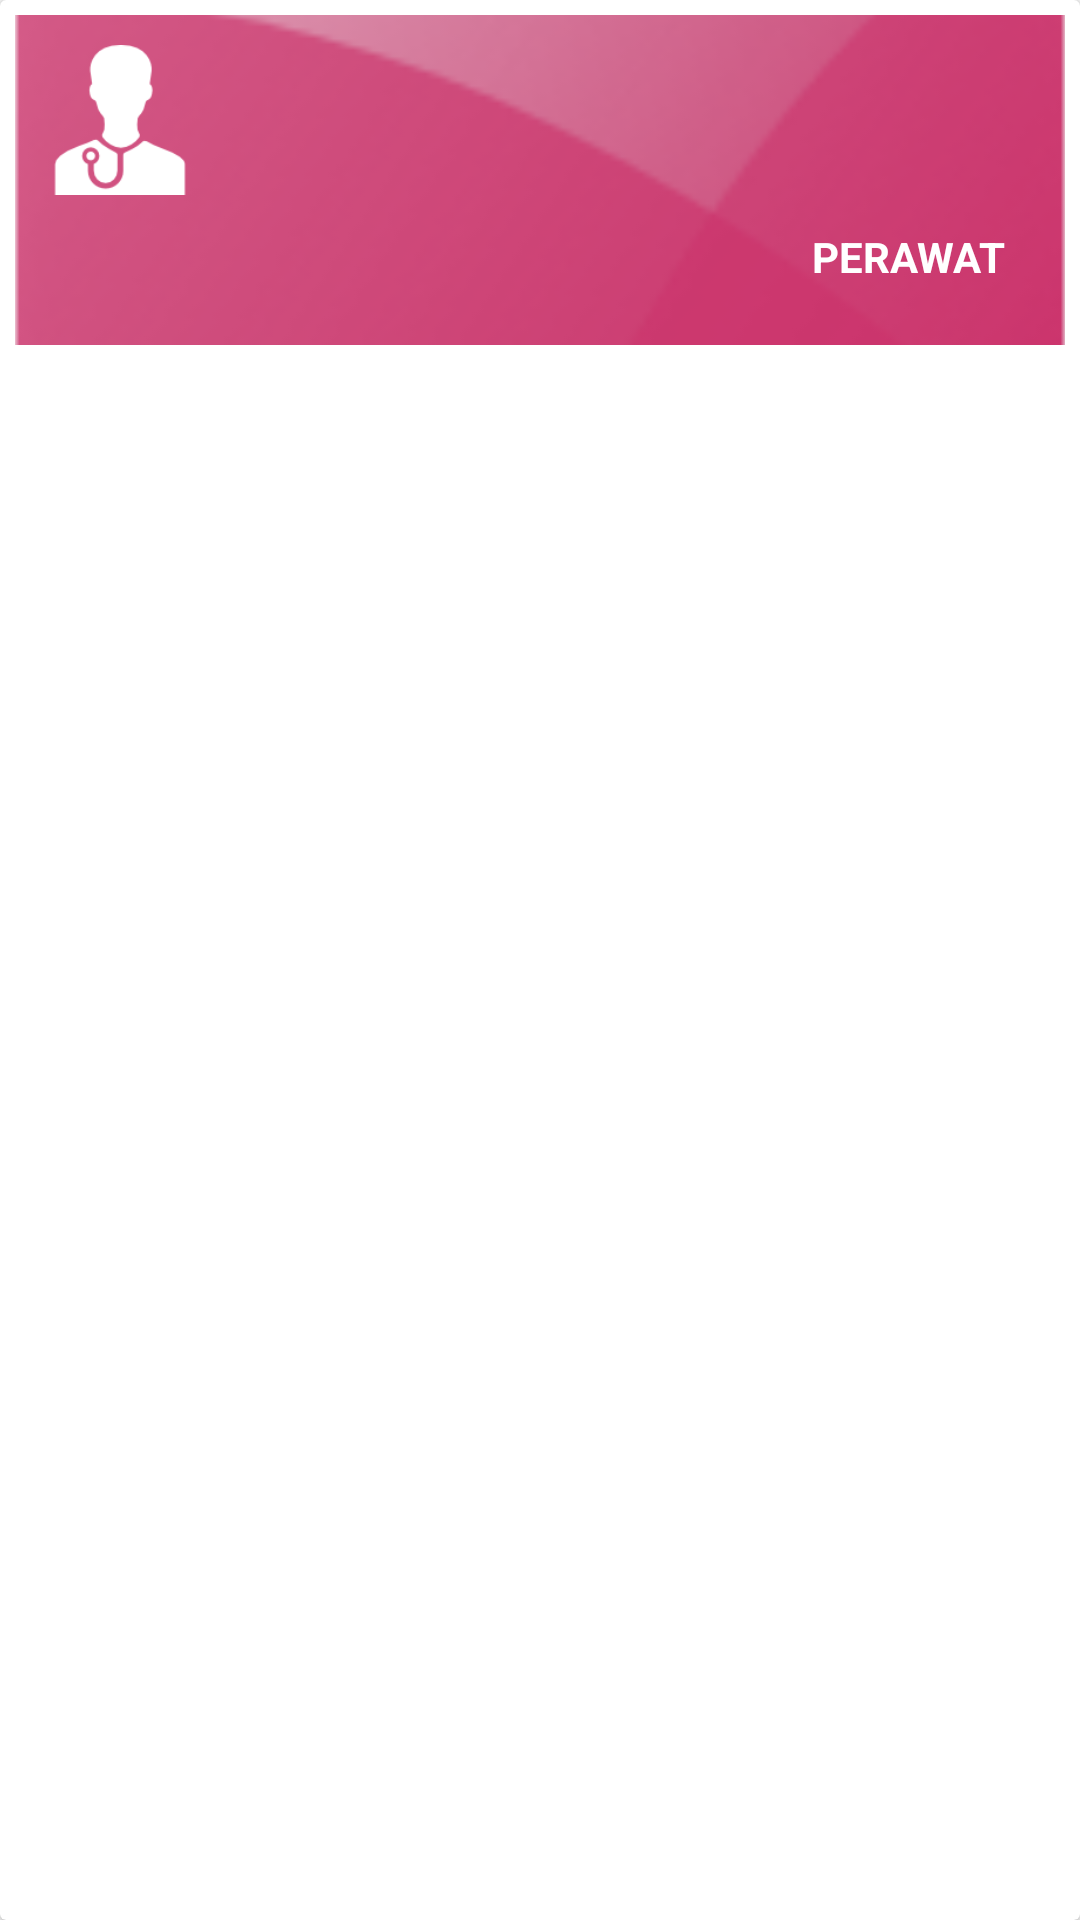

Screen size 1080×1920. Icon name, then its box in pixels as [left=x1, top=y1, right=x2, bottom=y2]:
doctor: [left=54, top=45, right=186, bottom=195]
